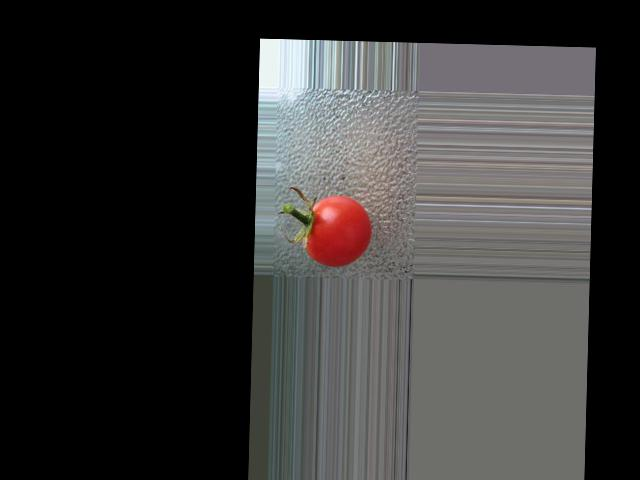tomato: (305, 193, 373, 267)
